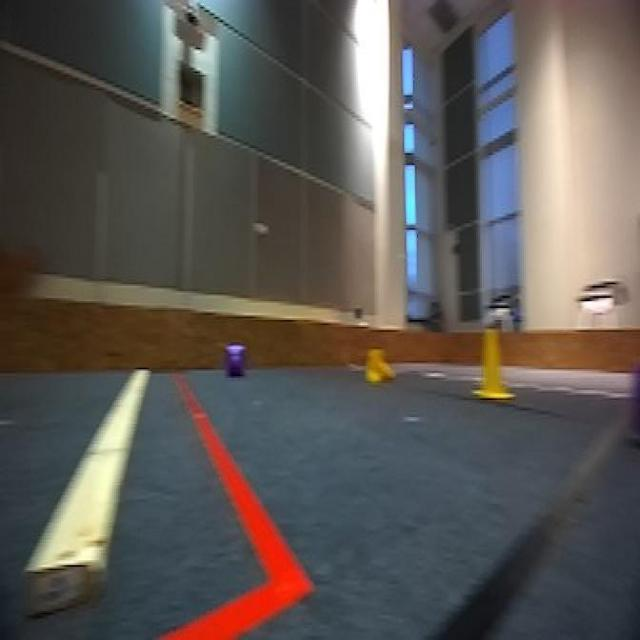frc_cone: (469, 322, 514, 402), (361, 344, 399, 386)
frc_cube: (224, 344, 246, 379)
